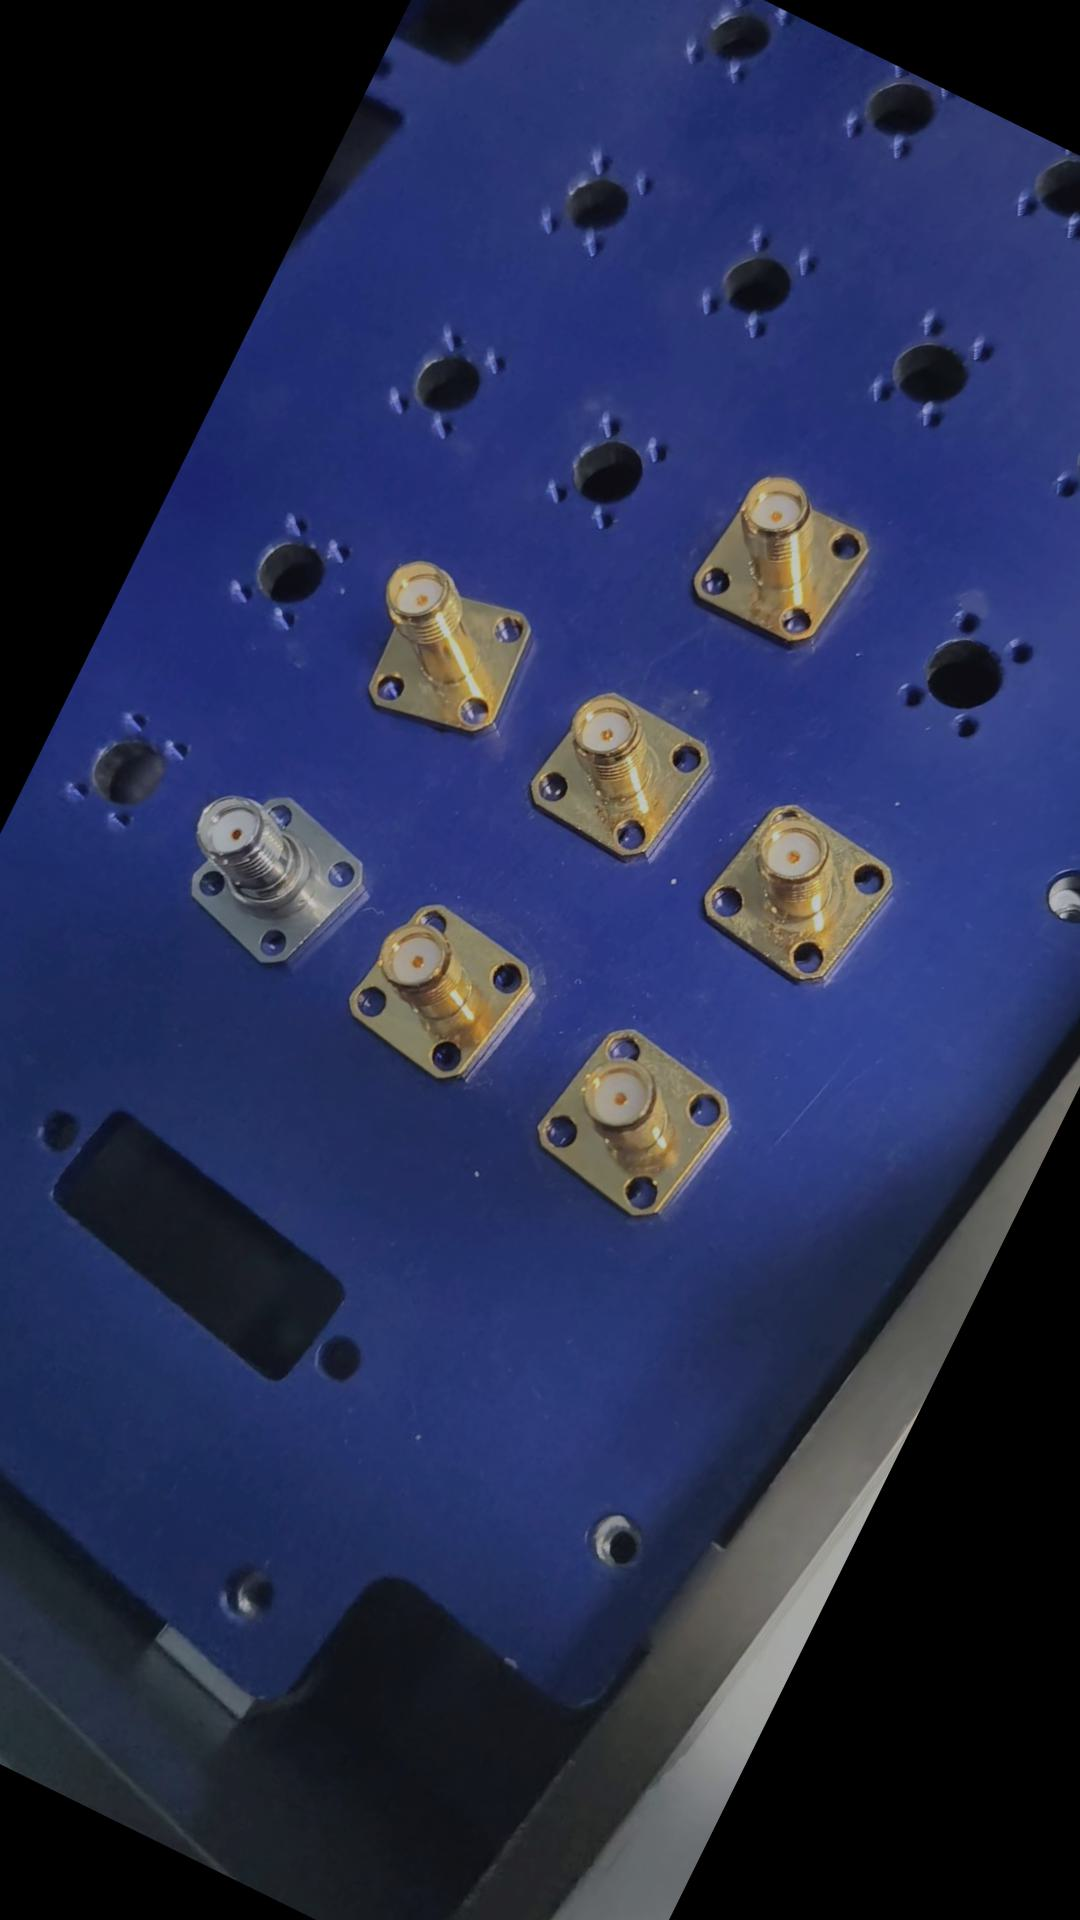SMA: (513, 994, 753, 1238), (328, 872, 558, 1108), (682, 782, 920, 1007), (659, 444, 887, 669), (164, 760, 382, 986), (512, 665, 724, 878), (335, 547, 546, 756)
